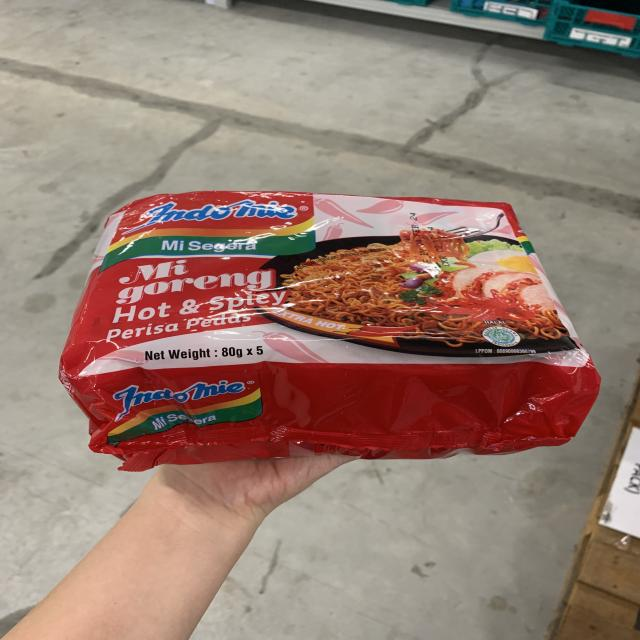object_name: (97, 199, 569, 444)
